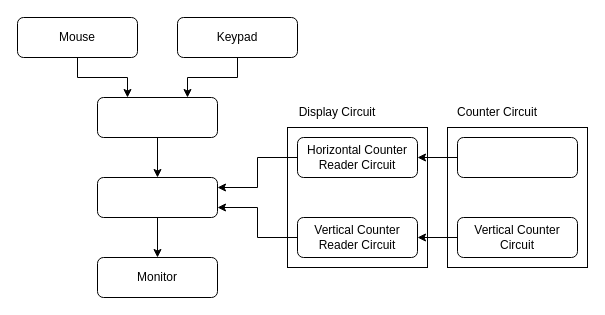
The diagram is 605 pixels wide and 315 high, and some of its shapes have lost their labels. Each missing label, with the box of its shape:
Horizontal Counter Circuit: (456, 136, 578, 178)
Memory Chip: (96, 176, 218, 218)
Microcontroller: (96, 96, 218, 138)
